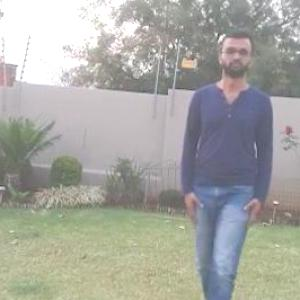follow: (180, 39, 268, 299)
